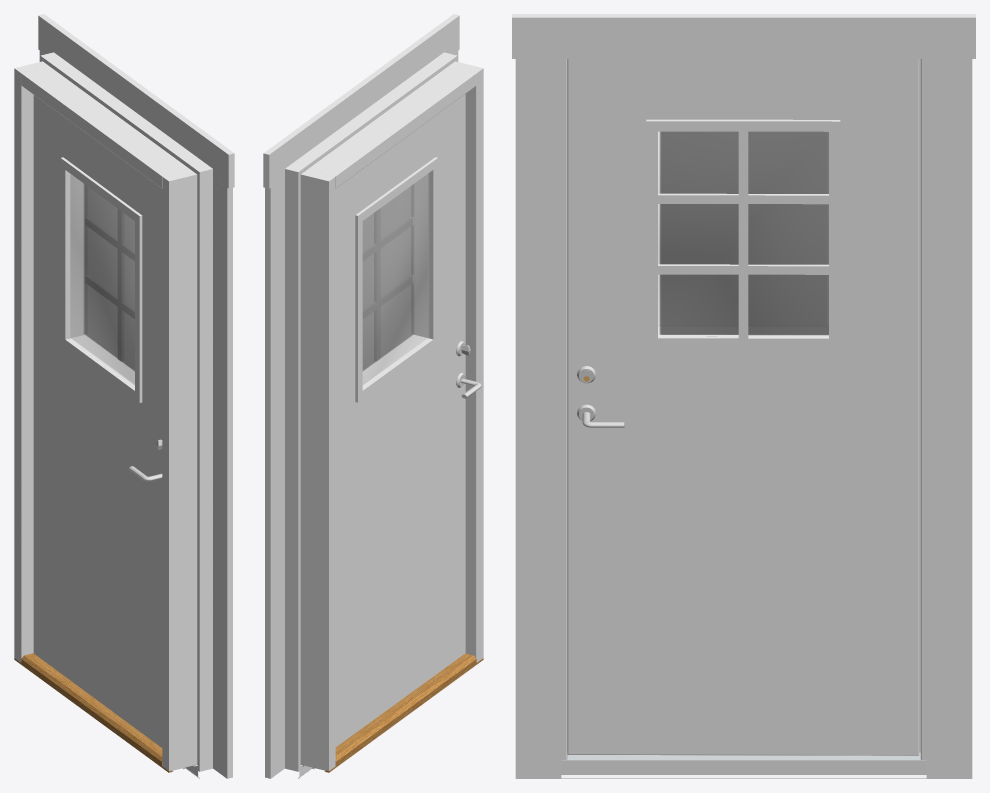
The picture shows the model from 3 angles, left to right: view 1: azimuth 30°, elevation 25°; view 2: azimuth 150°, elevation 25°; view 3: azimuth 270°, elevation 25°; orthographic projection. The views are drawn at different scales.
Parts seen in each view (by area): view 1: Dörrblad_WEB-1 - Part, Karmdelar_WEB-2 - Part, Fönsterfoder_WEB-2 - Part, Karmdelar_WEB-3 - Part, Glas_gamla_WEB-2 - Part_clonedChild, Glas_gamla_WEB-2 - Part, Påsalning yttersida_WEB-3 - Part, Glas_gamla_WEB-1 - Part_clonedChild, Glas_gamla_WEB-1 - Part, Fönsterfoder_WEB-1 - Part, Karmdelar_WEB-4 - Part, Spröjs_WEB-2 - Part (+3 smaller); view 2: Dörrblad_WEB-1 - Part, Karmdelar_WEB-3 - Part, Fönsterfoder_WEB-3 - Part, Karmdelar_WEB-2 - Part, Glas_gamla_WEB-2 - Part_clonedChild, Glas_gamla_WEB-2 - Part, Påsalning yttersida_WEB-2 - Part, Glas_gamla_WEB-1 - Part_clonedChild, Glas_gamla_WEB-1 - Part, Fönsterfoder_WEB-1 - Part, Karmdelar_WEB-4 - Part, Spröjs_WEB-2 - Part (+3 smaller); view 3: Dörrblad_WEB-1 - Part, Fönsterfoder_WEB-2 - Part, Fönsterfoder_WEB-3 - Part, Glas_gamla_WEB-1 - Part_clonedChild, Glas_gamla_WEB-1 - Part, Fönsterfoder_WEB-1 - Part, Spröjs_WEB-1 - Part, Tröskelbleck_WEB-1 - Part, Karmdelar_WEB-3 - Part, Karmdelar_WEB-2 - Part, Aluminiumdel - Tröskel_WEB-1 - Part.
Part boxes in pixels (box(x1,y1,x2,y2)): Dörrblad_WEB-1 - Part: box(33, 95, 162, 747); Karmdelar_WEB-2 - Part: box(162, 171, 197, 770); Fönsterfoder_WEB-2 - Part: box(213, 177, 232, 778); Karmdelar_WEB-3 - Part: box(14, 61, 46, 662); Glas_gamla_WEB-2 - Part_clonedChild: box(71, 175, 134, 384); Glas_gamla_WEB-2 - Part: box(71, 175, 134, 384); Påsalning yttersida_WEB-3 - Part: box(195, 165, 212, 771); Glas_gamla_WEB-1 - Part_clonedChild: box(84, 184, 134, 370); Glas_gamla_WEB-1 - Part: box(85, 185, 134, 369); Fönsterfoder_WEB-1 - Part: box(38, 14, 234, 188); Karmdelar_WEB-4 - Part: box(21, 64, 192, 188); Spröjs_WEB-2 - Part: box(60, 157, 142, 402); Dörrblad_WEB-1 - Part: box(335, 94, 465, 746); Karmdelar_WEB-3 - Part: box(300, 171, 335, 770); Fönsterfoder_WEB-3 - Part: box(265, 177, 284, 778); Karmdelar_WEB-2 - Part: box(451, 61, 483, 662); Glas_gamla_WEB-2 - Part_clonedChild: box(363, 174, 428, 384); Glas_gamla_WEB-2 - Part: box(363, 174, 427, 384); Påsalning yttersida_WEB-2 - Part: box(285, 165, 302, 771); Glas_gamla_WEB-1 - Part_clonedChild: box(363, 184, 413, 370); Glas_gamla_WEB-1 - Part: box(363, 186, 411, 368); Fönsterfoder_WEB-1 - Part: box(263, 14, 459, 188); Karmdelar_WEB-4 - Part: box(305, 64, 476, 188); Spröjs_WEB-2 - Part: box(355, 157, 438, 402); Dörrblad_WEB-1 - Part: box(567, 59, 919, 755); Fönsterfoder_WEB-2 - Part: box(515, 59, 561, 778); Fönsterfoder_WEB-3 - Part: box(926, 59, 972, 778); Glas_gamla_WEB-1 - Part_clonedChild: box(660, 131, 828, 335); Glas_gamla_WEB-1 - Part: box(659, 132, 828, 334); Fönsterfoder_WEB-1 - Part: box(512, 14, 975, 58); Spröjs_WEB-1 - Part: box(646, 119, 840, 348); Tröskelbleck_WEB-1 - Part: box(561, 760, 926, 778); Karmdelar_WEB-3 - Part: box(919, 59, 926, 759); Karmdelar_WEB-2 - Part: box(561, 59, 567, 759); Aluminiumdel - Tröskel_WEB-1 - Part: box(561, 752, 926, 760).
Bounding box in the file's own units: 0.2283 × 2.24 × 1.22.
23 materials, 15 textured.
